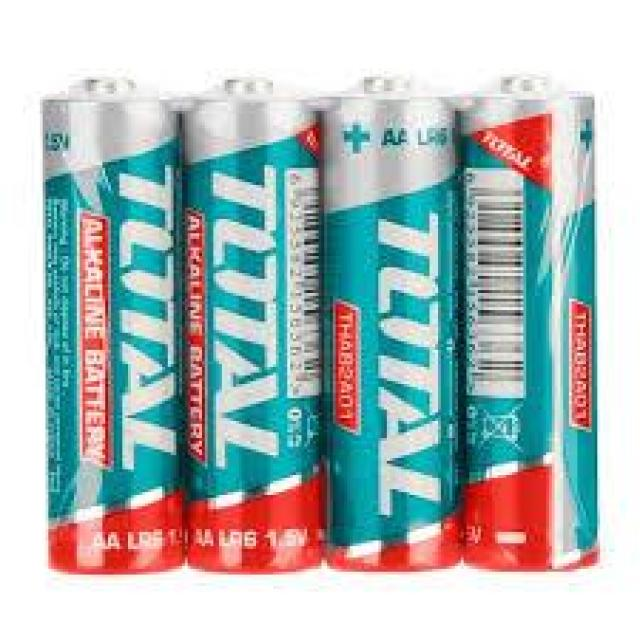AA: (30, 70, 186, 584), (318, 66, 469, 583), (186, 68, 326, 583), (464, 63, 603, 580)
